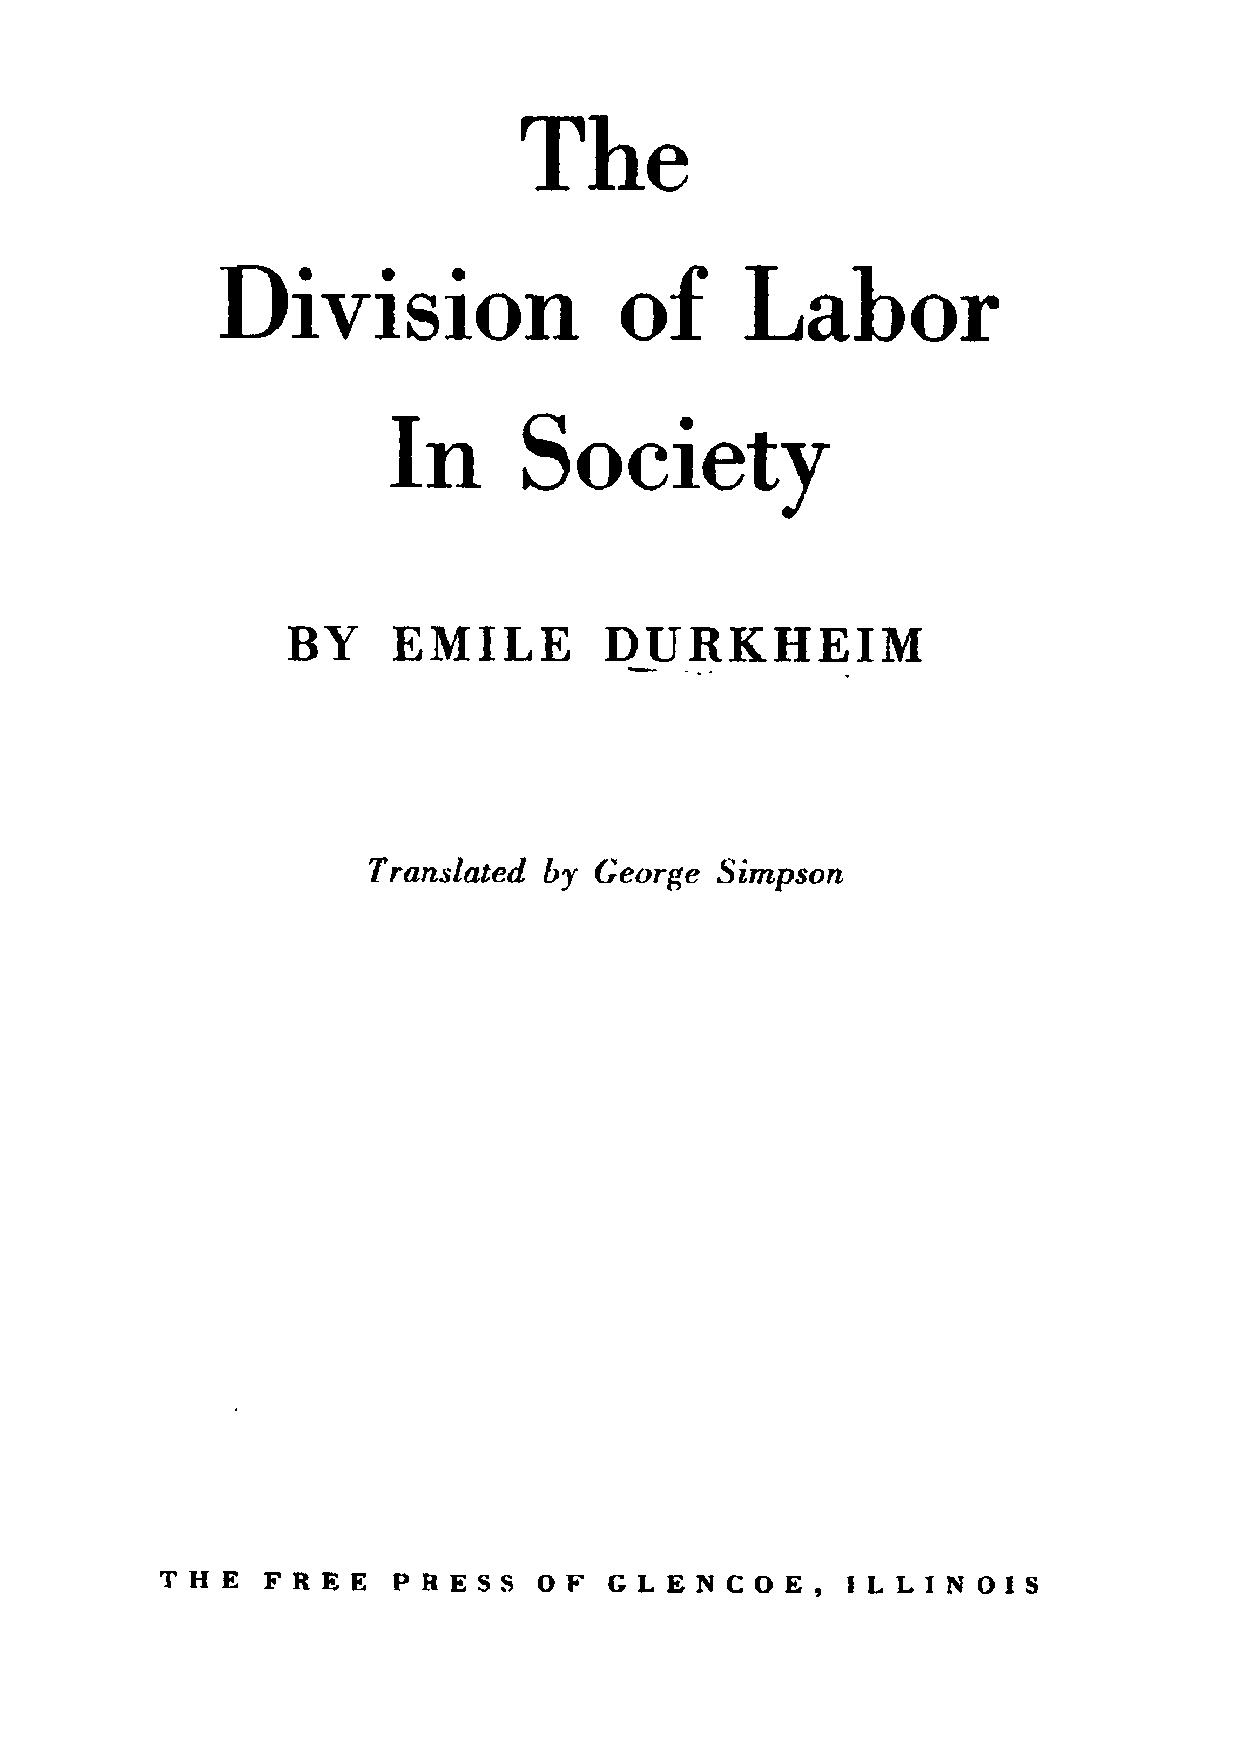author: (282, 624, 922, 664)
title: (216, 110, 1001, 519)
